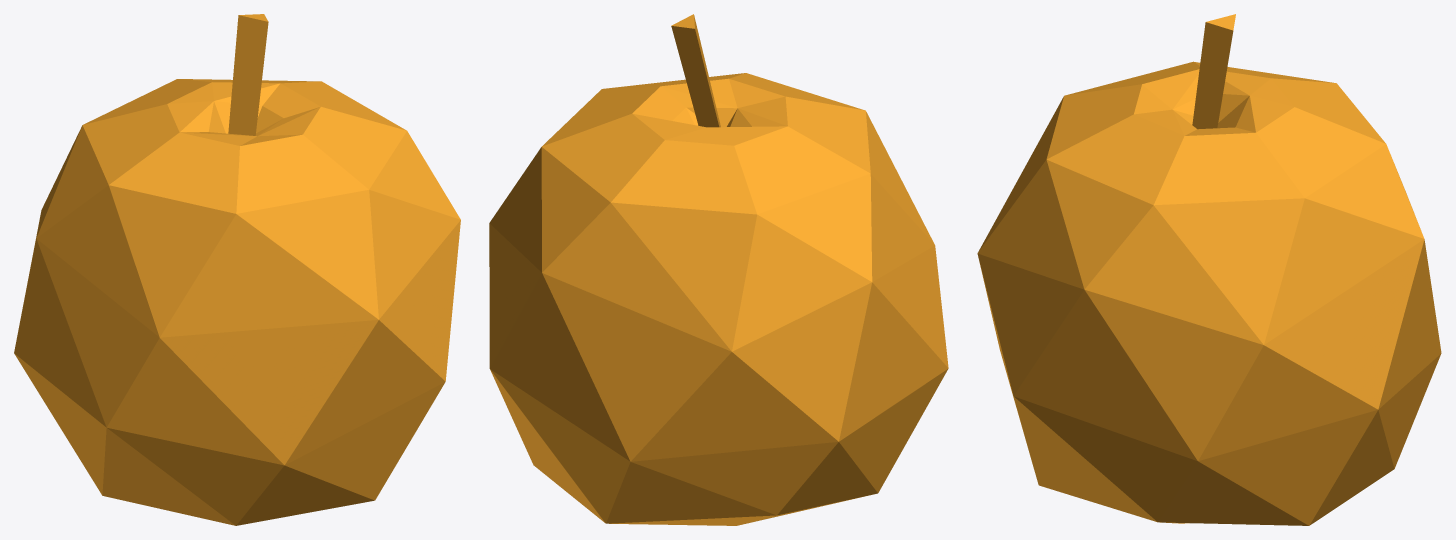
The model's file is SM_Apple_Red_Green.fbx.
3 renders of one model, left to right at view 1: azimuth 30°, elevation 25°; view 2: azimuth 150°, elevation 25°; view 3: azimuth 270°, elevation 25°, orthographic. The views are drawn at different scales.
Visible parts, largest first — view 1: apple-red-green; view 2: apple-red-green; view 3: apple-red-green.
Part boxes in pixels (x1=…): apple-red-green: x1=14, y1=14, x2=460, y2=525; apple-red-green: x1=489, y1=14, x2=948, y2=525; apple-red-green: x1=977, y1=14, x2=1441, y2=525.
Size of the model in its own units: 0.135 by 0.1554 by 0.1372.
